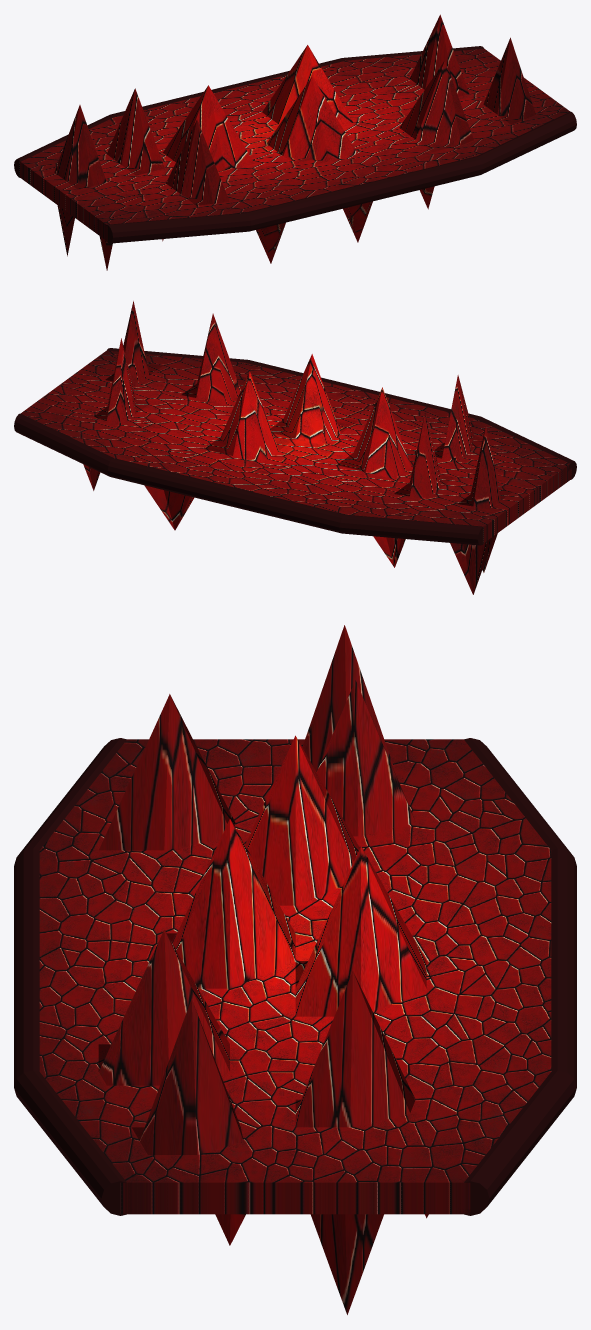
3 renders of one model, top to bottom at view 1: azimuth 30°, elevation 25°; view 2: azimuth 150°, elevation 25°; view 3: azimuth 270°, elevation 25°, orthographic. The views are drawn at different scales.
Visible parts, largest first — view 1: SPlatform; view 2: SPlatform; view 3: SPlatform.
Boxes of the visible parts, bbox=[...] form: SPlatform: bbox=[14, 14, 576, 270]; SPlatform: bbox=[14, 301, 576, 594]; SPlatform: bbox=[14, 625, 576, 1314].
Size of the model in its own units: 1200 by 400 by 644.
